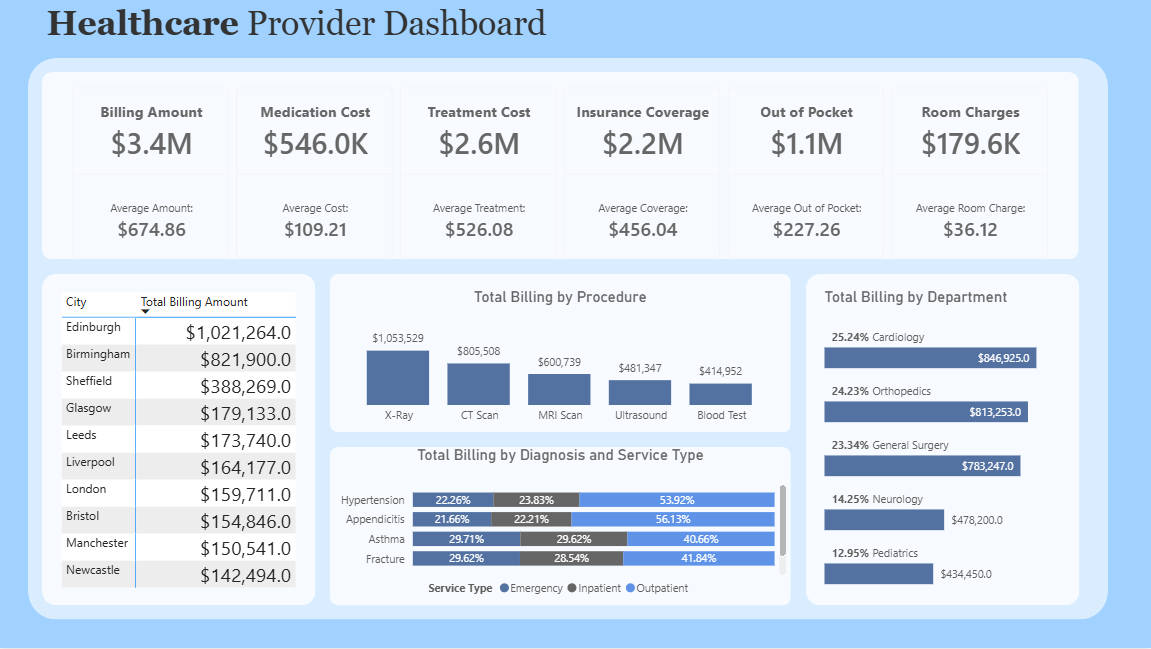

This screenshot's page, from the dashboard's own definition file:
{"tool":"powerbi","page":{"name":"Page 3","canvas":[1280,720],"ordinal":1},"visuals":[{"type":"group","id":"g1","title":"Group 1","box":[32,64,1200,624],"z":0},{"type":"shape","box":[32,64,1200,624],"z":0,"group":"g1"},{"type":"shape","box":[368,304,512,176],"z":1000,"group":"g1"},{"type":"clusteredColumnChart","title":"Total Billing by Procedure","fields":{"Category":["procedures.Procedure"],"Y":["DAX Calculation.Total Billing Amount"]},"box":[368,320,512,160],"z":1000},{"type":"shape","box":[48,304,304,368],"z":2000,"group":"g1"},{"type":"hundredPercentStackedBarChart","title":"Total Billing by Diagnosis and Service Type","fields":{"Y":["DAX Calculation.Total Billing Amount"],"Category":["diagnoses.Diagnosis"],"Series":["visits.Service Type"]},"box":[368,496,512,176],"z":2000},{"type":"clusteredBarChart","title":"Total Billing by Department","fields":{"Category":["departments.Department"],"Y":["DAX Calculation.Blank Measure","DAX Calculation.Total Billing Amount"]},"box":[912,320,288,336],"z":3000},{"type":"shape","box":[368,496,512,176],"z":3000,"group":"g1"},{"type":"cardVisual","fields":{"Data":["DAX Calculation.Total Billing Amount","DAX Calculation.Total Medication Cost","DAX Calculation.Total Treatment Cost","DAX Calculation.Total Insurance Coverage","DAX Calculation.Out of Pocket","DAX Calculation.Total Room Charges"]},"box":[64,80,1120,224],"z":4000},{"type":"shape","box":[896,304,304,368],"z":4000,"group":"g1"},{"type":"shape","box":[48,80,1152,208],"z":5000,"group":"g1"},{"type":"pivotTable","fields":{"Rows":["cities.City"],"Values":["DAX Calculation.Total Billing Amount"]},"box":[64,320,272,352],"z":5000},{"type":"textbox","box":[48,0,592,64],"z":6000},{"type":"group","id":"g2","title":"Filter Button","box":[640,16,128,32],"z":8000}]}

Visuals, with their boxes in screenshot pixels (x1, y1, x2, y2), scaled from the page's 1280x720 canvas onto the 1151x649 screenshot:
"Group 1" group: BBox(29, 58, 1108, 620)
shape: BBox(29, 58, 1108, 620)
shape: BBox(331, 274, 791, 433)
"Total Billing by Procedure" clusteredColumnChart: BBox(331, 288, 791, 433)
shape: BBox(43, 274, 317, 606)
"Total Billing by Diagnosis and Service Type" hundredPercentStackedBarChart: BBox(331, 447, 791, 606)
"Total Billing by Department" clusteredBarChart: BBox(820, 288, 1079, 591)
shape: BBox(331, 447, 791, 606)
cardVisual - DAX Calculation.Total Billing Amount x DAX Calculation.Total Medication Cost: BBox(58, 72, 1065, 274)
shape: BBox(806, 274, 1079, 606)
shape: BBox(43, 72, 1079, 260)
pivotTable - cities.City x DAX Calculation.Total Billing Amount: BBox(58, 288, 302, 606)
textbox: BBox(43, 0, 576, 58)
"Filter Button" group: BBox(576, 14, 691, 43)
